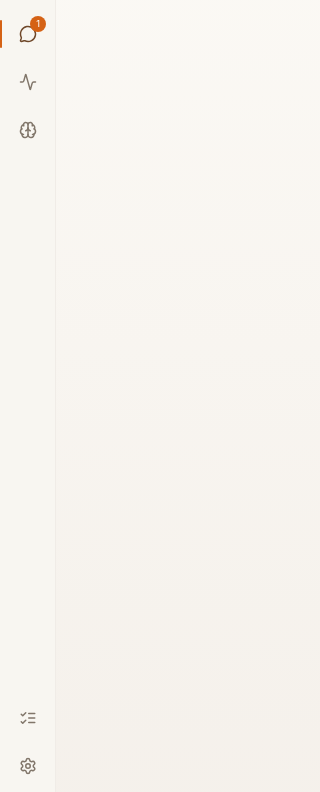
Test case: sidebar navigation › keeps the currently selected session when it still exists in the refreshed list
Click the button named "shell.conversation".
click(28, 34)  # box [6, 12, 50, 56]
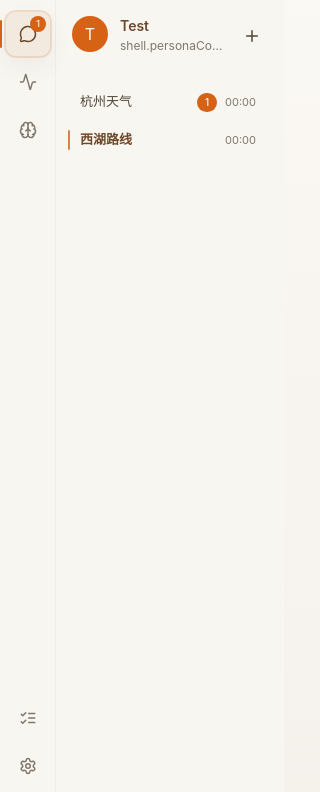
Result: the button "西湖路线 00:00" is shown at [68, 130, 268, 150]
